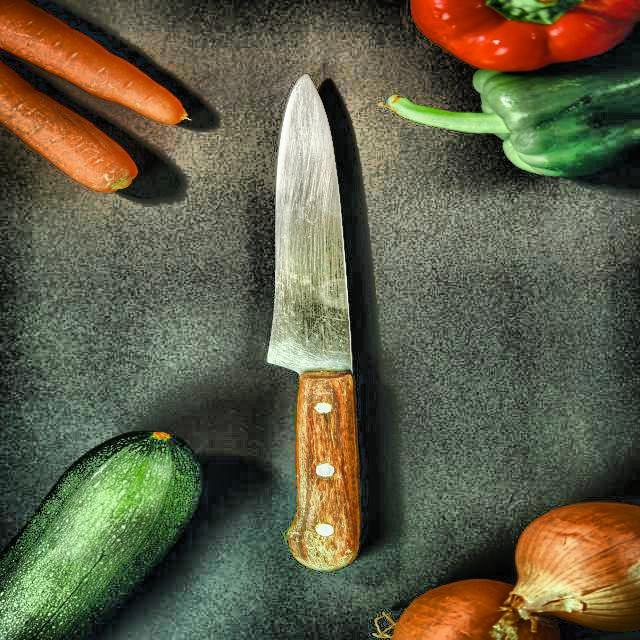knife: (270, 70, 360, 576)
